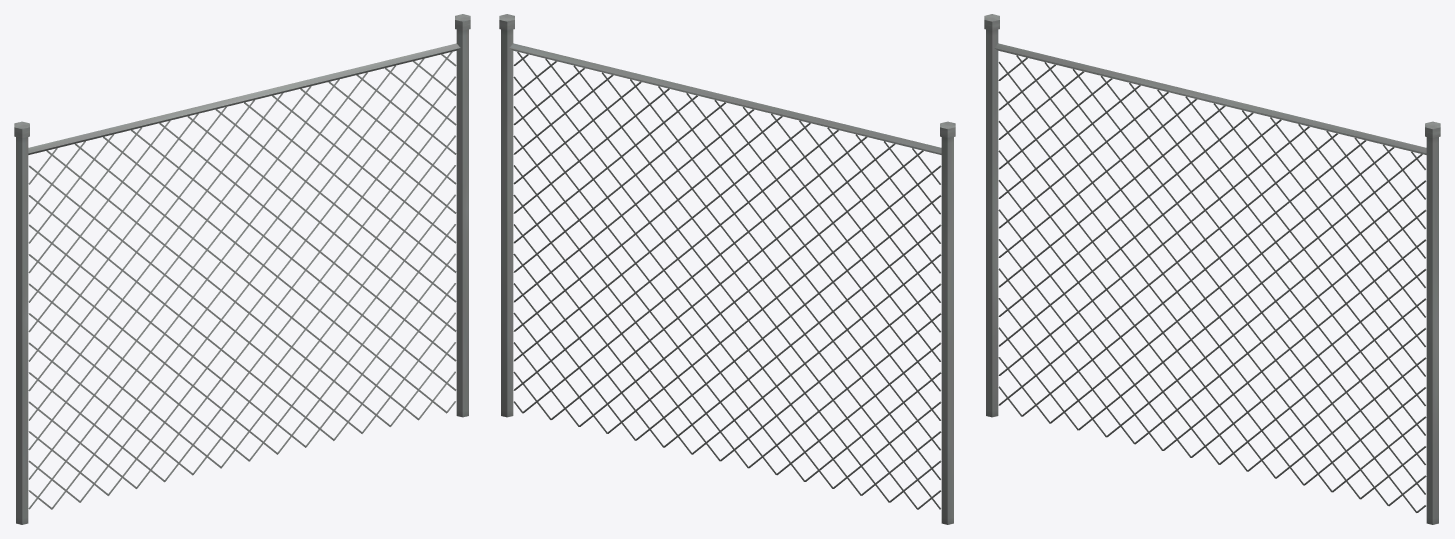
The model's file is chainlink_fence.obj.
3 views of the same model, side by side, from view 1: azimuth 30°, elevation 25°; view 2: azimuth 150°, elevation 25°; view 3: azimuth 330°, elevation 25° (orthographic).
Visible parts, largest first — view 1: chainlink_fence; view 2: chainlink_fence; view 3: chainlink_fence.
Part boxes in pixels (box(x1,y1,x2,y2)): chainlink_fence: box(14, 14, 470, 524); chainlink_fence: box(499, 14, 955, 524); chainlink_fence: box(984, 14, 1440, 524).
Size of the model in its own units: 2.59 by 2.15 by 0.0779.
1 material, 1 textured.
